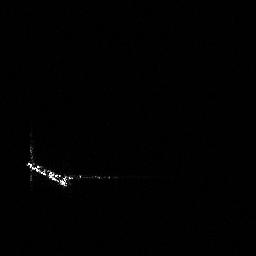ship: (24, 157, 71, 190)
